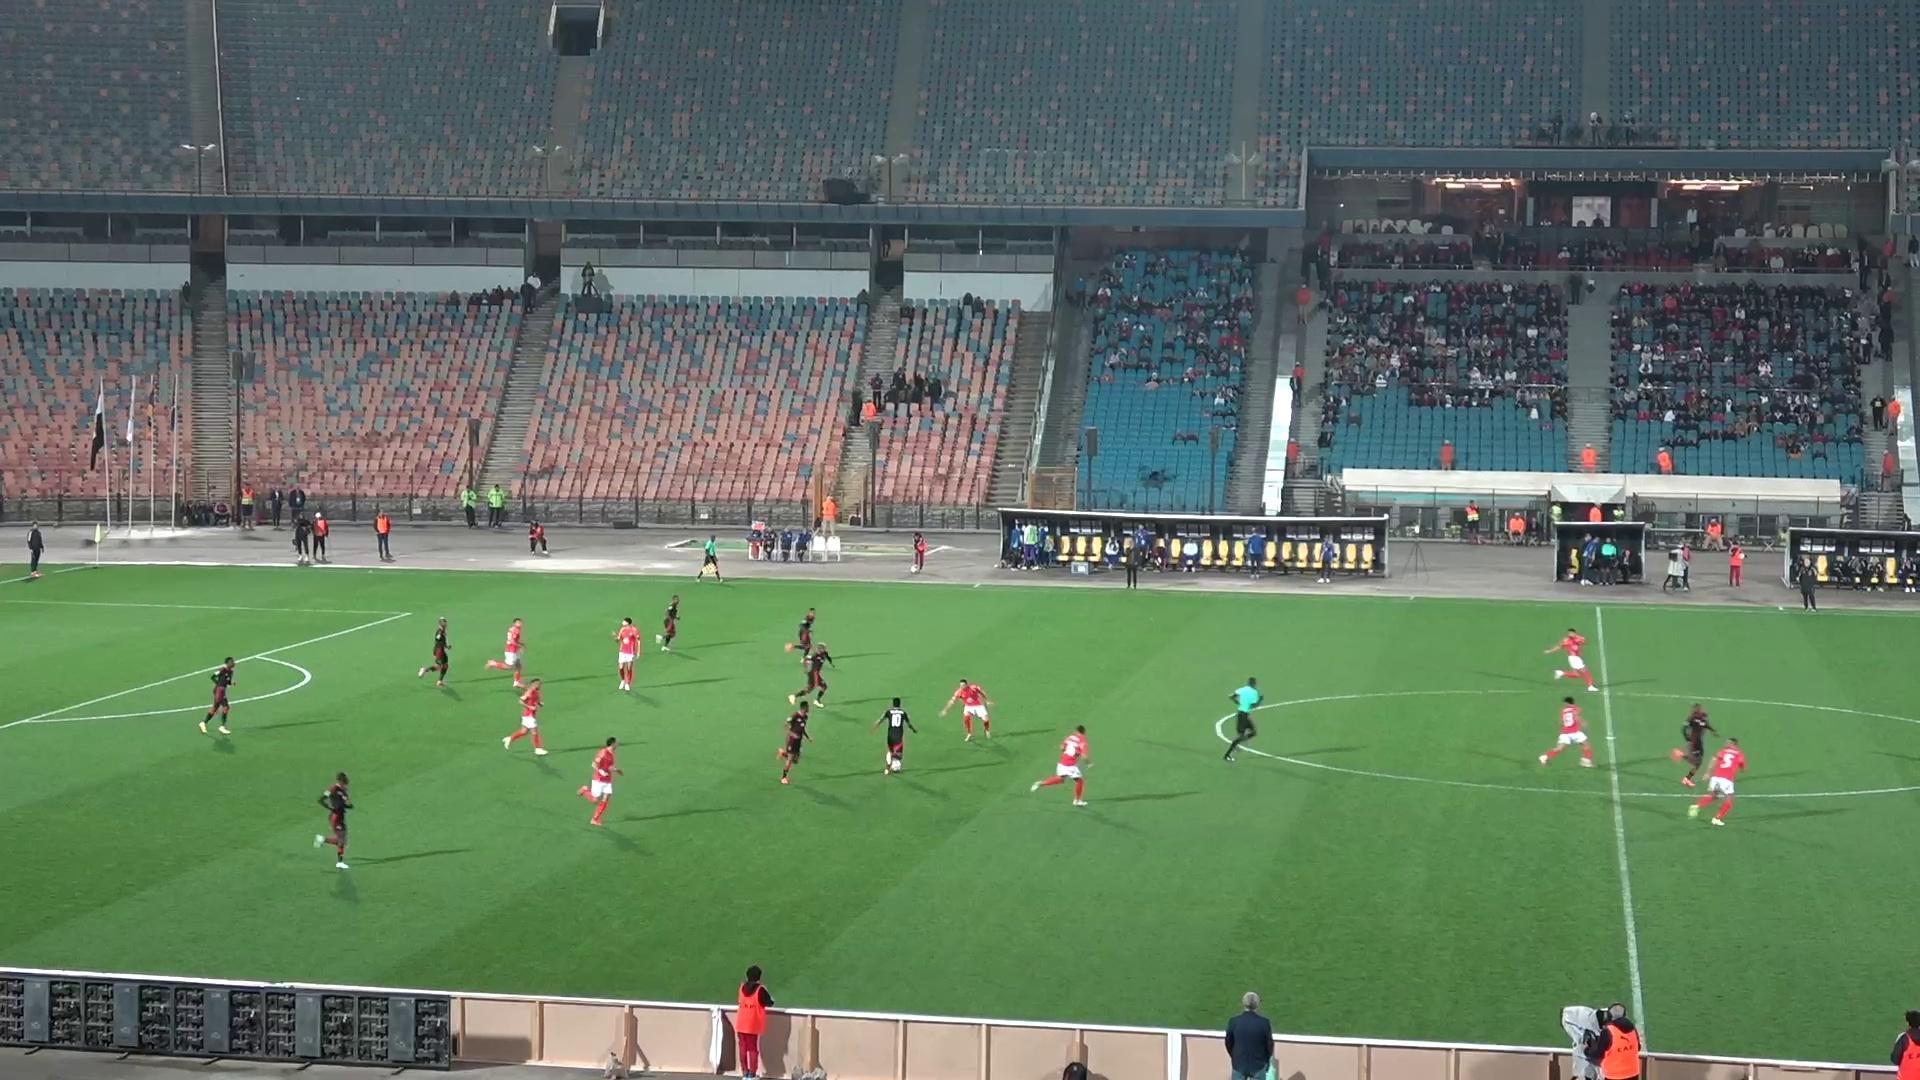Ball: (885, 756, 903, 773)
Refree: (1216, 676, 1263, 761), (669, 535, 724, 580)
Team1: (1688, 738, 1747, 825), (1031, 727, 1089, 806), (1539, 696, 1593, 766), (502, 678, 549, 756), (579, 738, 620, 825), (1545, 628, 1600, 690), (942, 679, 993, 738), (485, 618, 524, 687), (613, 616, 641, 692)
Team2: (1669, 705, 1716, 786), (315, 773, 352, 866), (873, 698, 915, 774), (198, 657, 236, 736), (789, 644, 833, 705), (775, 707, 810, 785), (415, 617, 451, 688), (783, 608, 816, 655), (655, 595, 680, 651)
